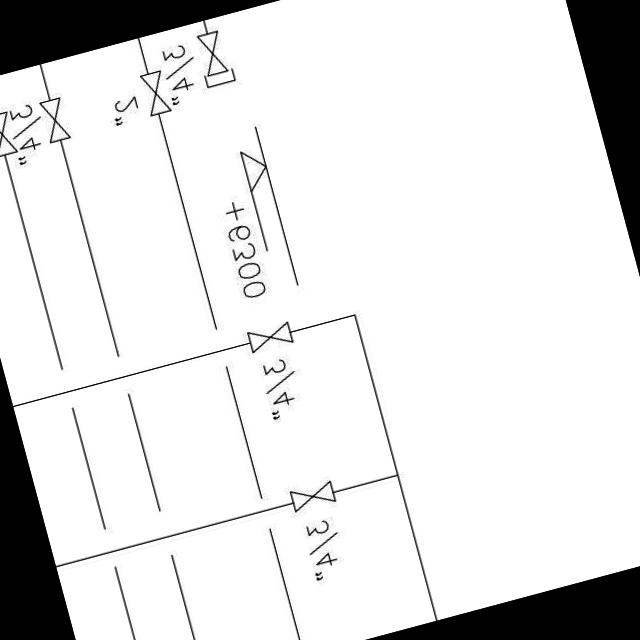EC: (184, 15, 241, 96)
GV: (282, 474, 344, 518), (240, 315, 302, 358), (32, 92, 74, 148), (133, 64, 175, 120), (194, 26, 231, 80), (0, 107, 20, 161)
